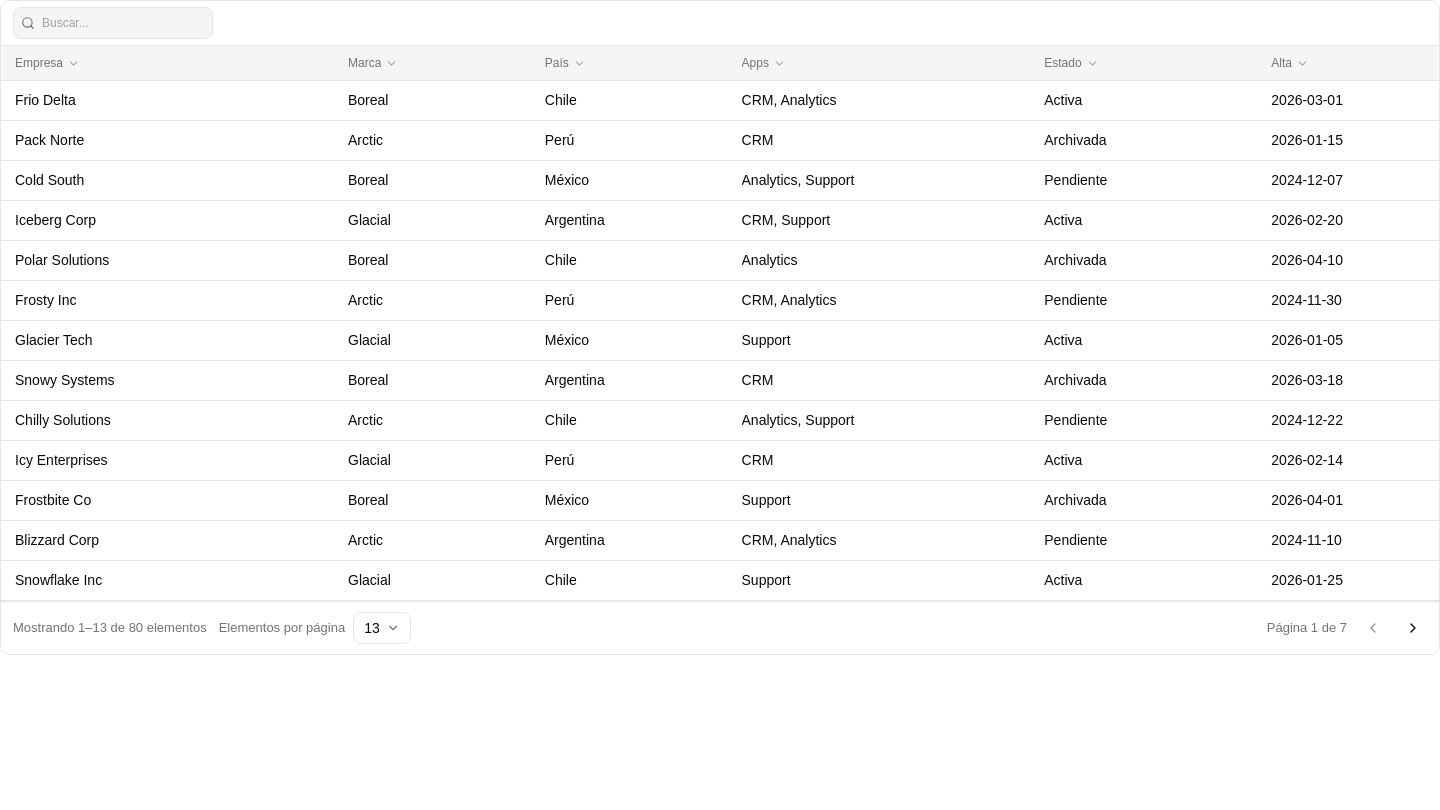
Scenario: a controlled page size missing from the options is listed in the select
This screenshot has width=1440, height=810.
Click the dropdown named "Elementos por página": [382, 628] box [353,612,411,644]
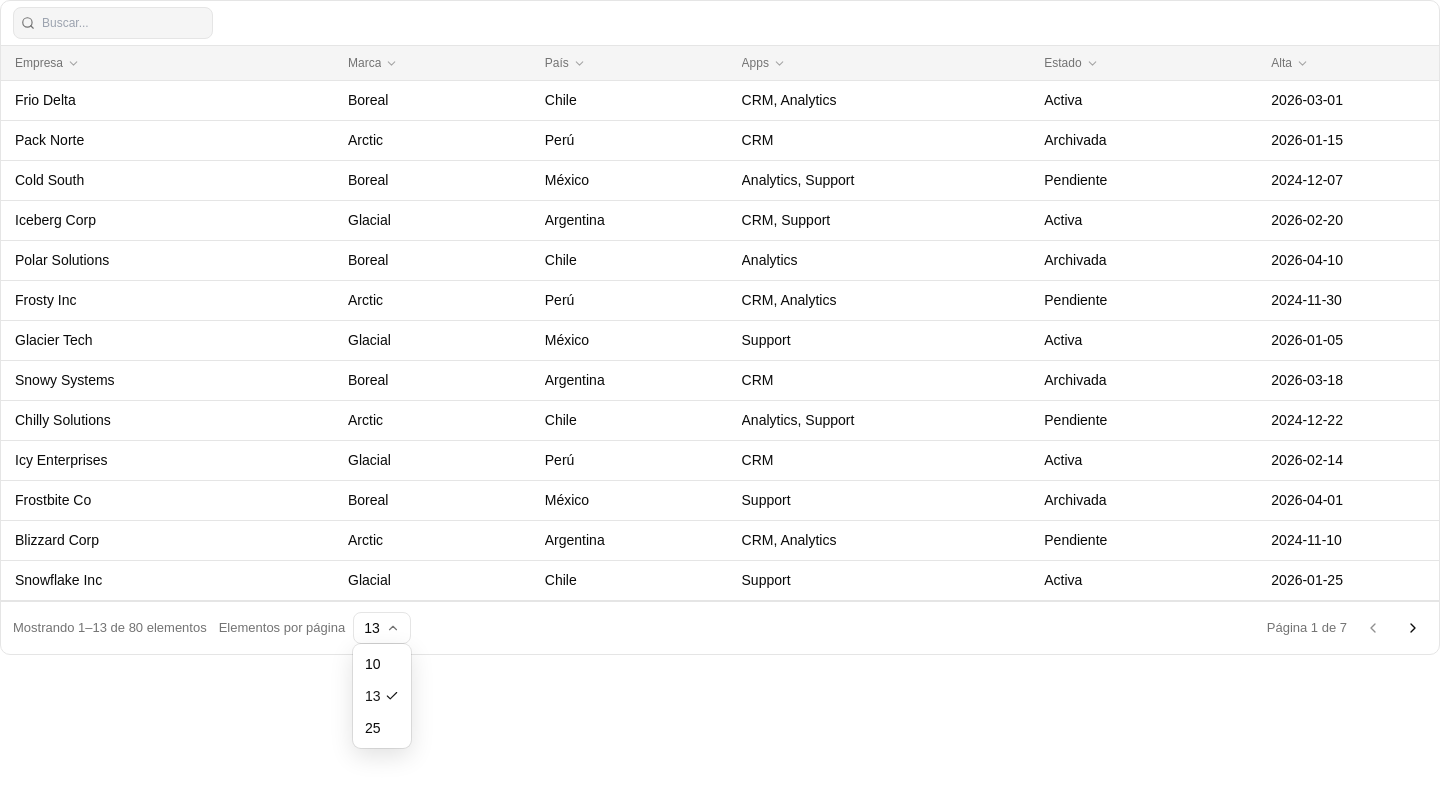
Now the option "13" is shown, box [365,688,399,704]
